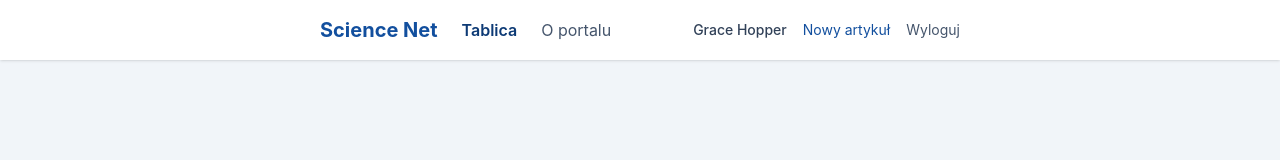
Test: Navbar › zalogowany widzi swoje imię, link do nowego artykułu i może się wylogować
Click the button "Wyloguj" at (933, 30), box [906, 20, 960, 40]
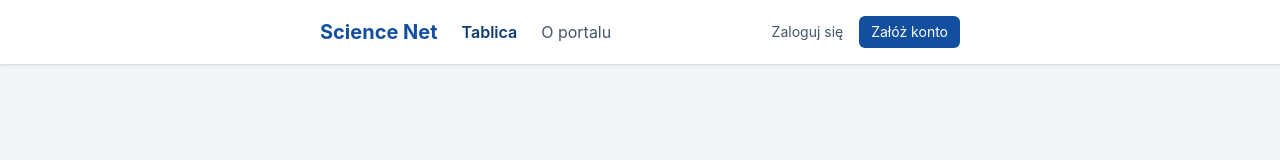
Expected: the link "Zaloguj się" is shown, [772, 22, 843, 42]
